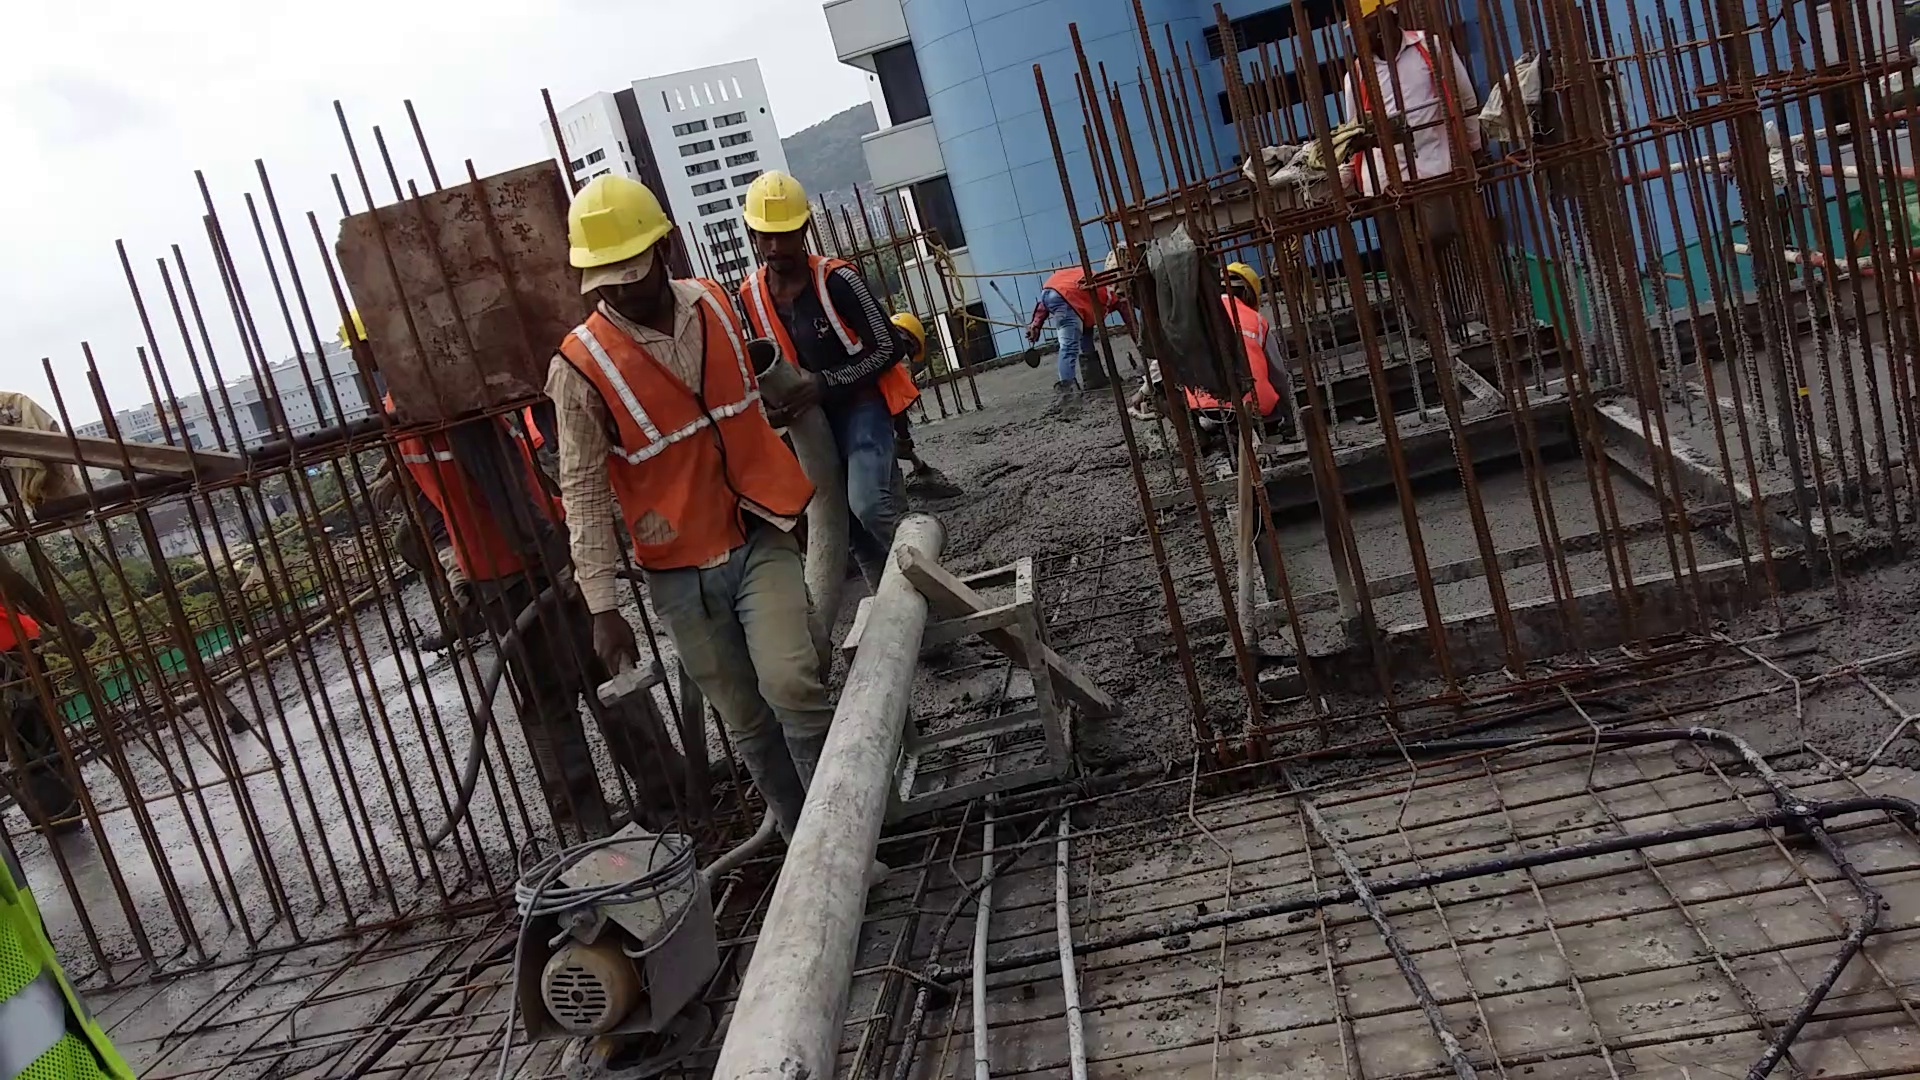SAFE: (563, 164, 819, 584), (746, 156, 902, 433)
